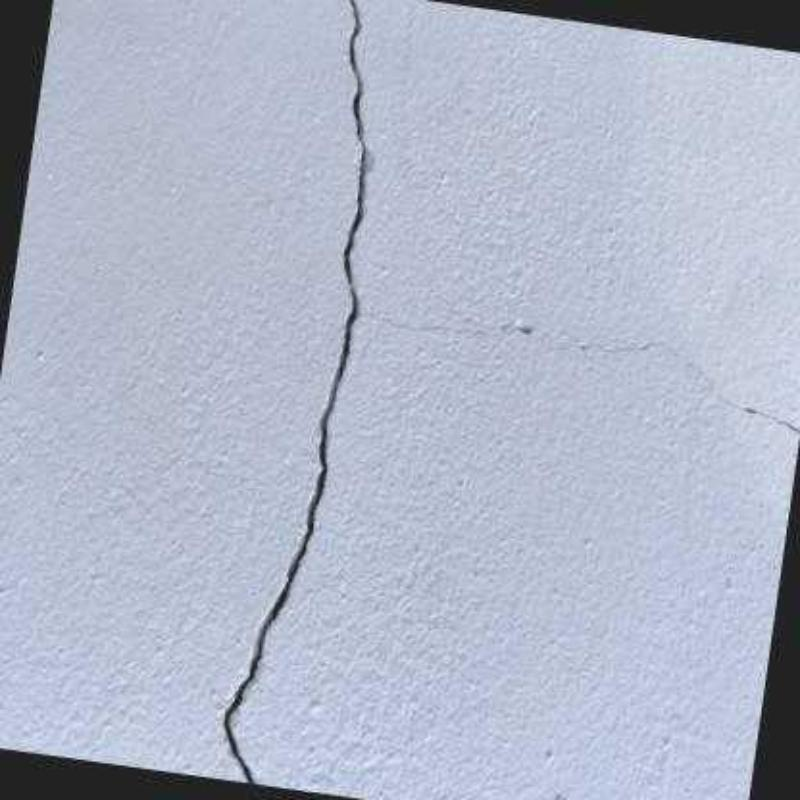crack: (222, 0, 366, 784), (360, 309, 800, 442)
